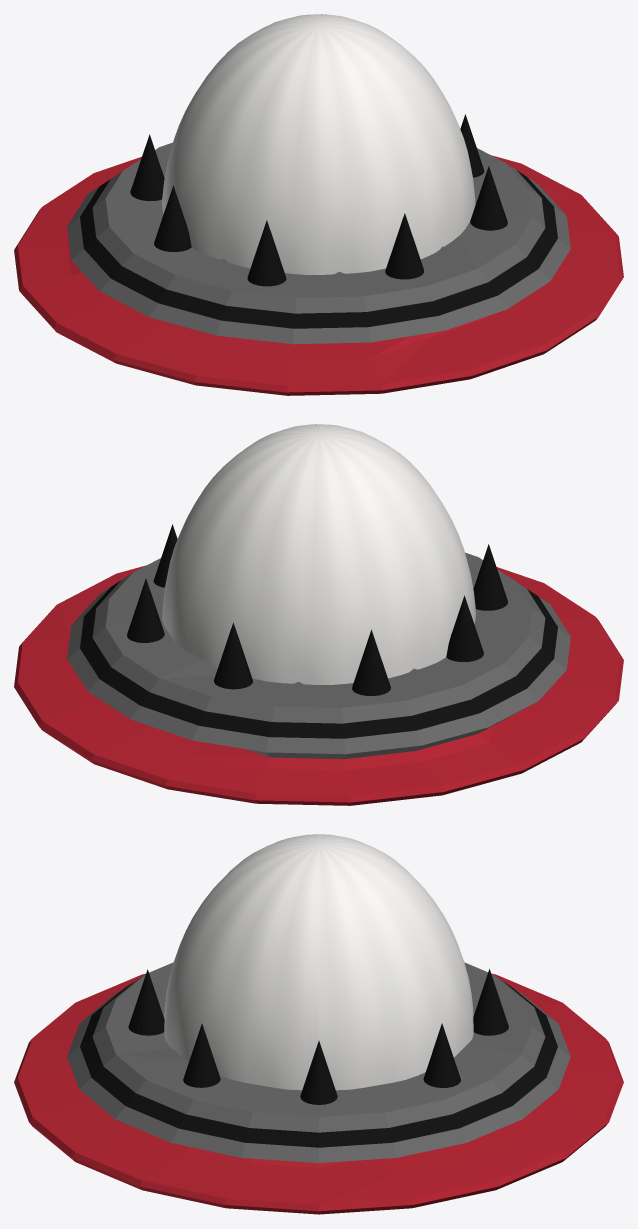
File: astra_t02.glb
3 views of the same model, one above another, from view 1: azimuth 30°, elevation 25°; view 2: azimuth 150°, elevation 25°; view 3: azimuth 270°, elevation 25° (orthographic).
Visible parts, largest first — view 1: slot_anchor_saucer, canopy_shell; view 2: slot_anchor_saucer, canopy_shell; view 3: slot_anchor_saucer, canopy_shell.
Boxes of the visible parts, x1,y1,x2,y2 form: slot_anchor_saucer: (14, 114, 623, 395); canopy_shell: (162, 14, 475, 274); slot_anchor_saucer: (14, 524, 623, 805); canopy_shell: (162, 424, 475, 684); slot_anchor_saucer: (14, 962, 623, 1214); canopy_shell: (164, 834, 473, 1090).
Size of the model in its own units: 2 by 1.2 by 2.
2 materials, 1 textured.
